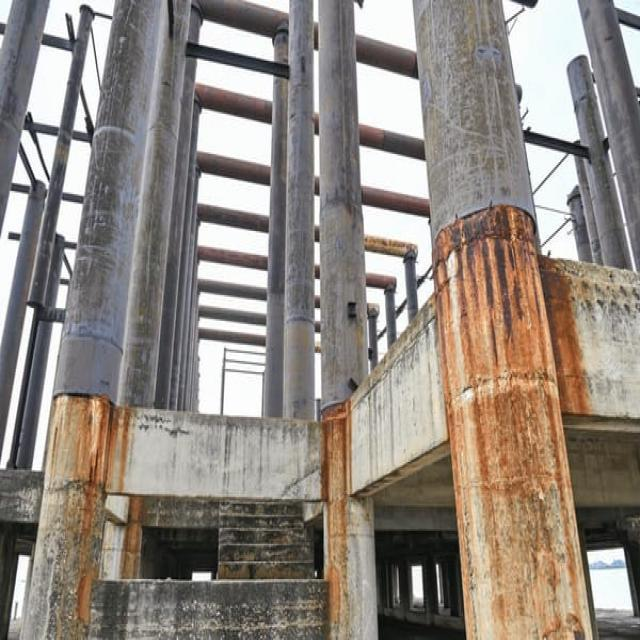corrosion: (429, 204, 595, 639), (318, 400, 353, 626)
